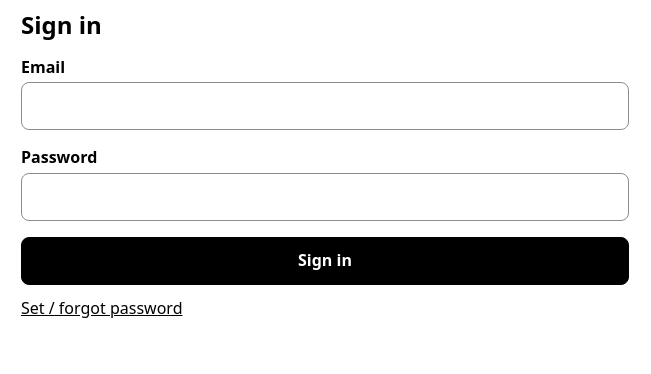
Test: LoginPage › shows the wrong-credentials message when sign-in is refused
Type "anna@example.com" into the field labelled "Email". click: (325, 106)
box: [21,82,629,130]
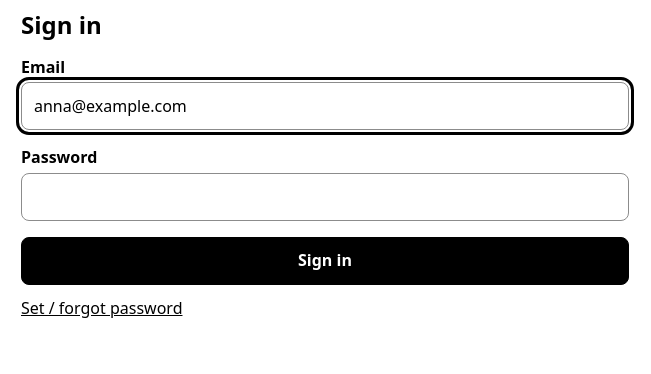
Type "wrong" into the password field labelled "Password". click: (325, 197)
box: [21,173,629,221]
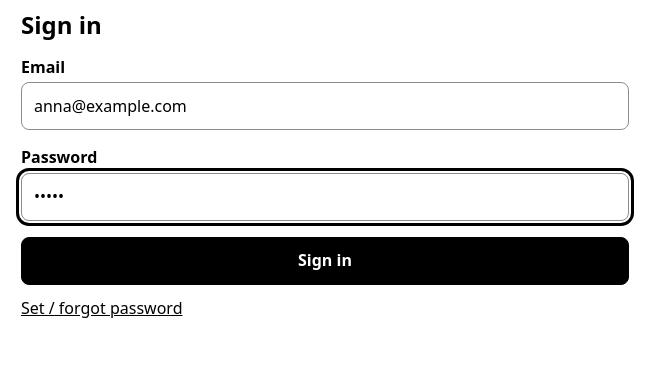
Click the button "Sign in". click: (325, 261)
box: [21,237,629,285]
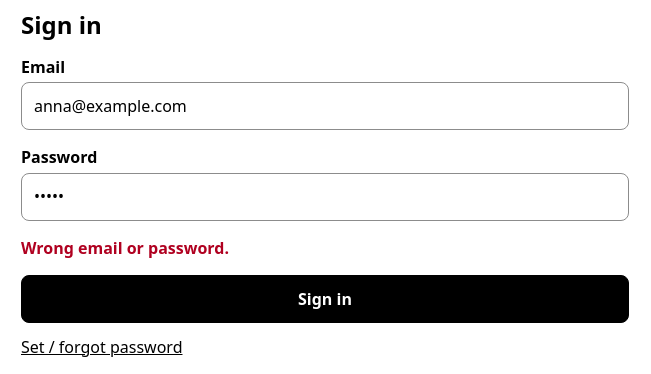
Expected: the message reads "Wrong email or password.", [21,237,229,259]
